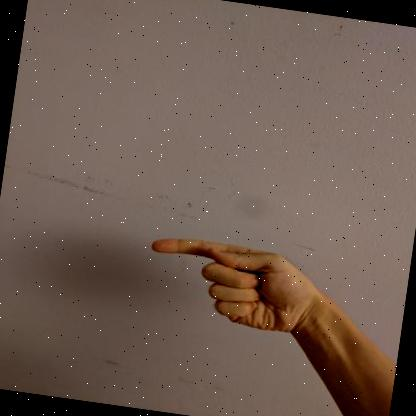G: (151, 238, 315, 339)
